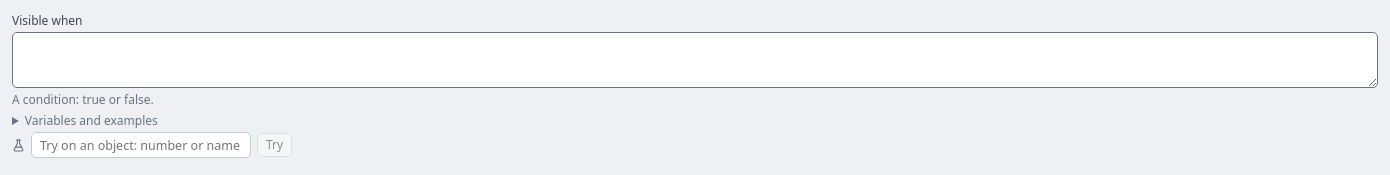
Test case: ExpressionField › checks the expression as you type and says where it's wrong
In the text box labelled "Visible when": (695, 60) [12,32,1378,88], type "object.state =="
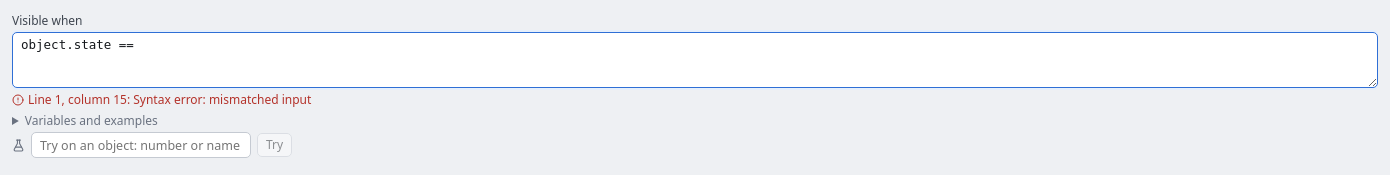
Expected: the text "Line 1, column 15: Syntax error: mismatched input" is shown, [12,91,311,108]
In the text box labelled "Visible when": (695, 60) [12,32,1378,88], type " 'RELEASED'"
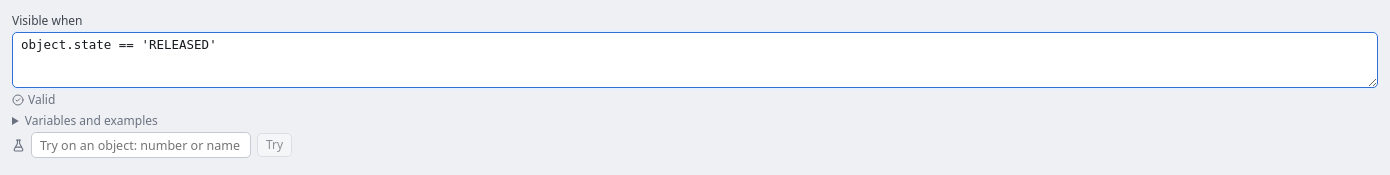
Expected: the text "Valid" is shown, [12,91,55,108]
